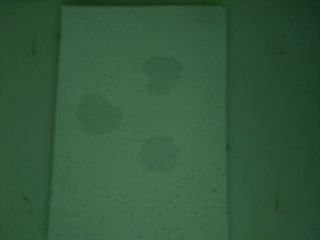Water_detected: (76, 98, 116, 138), (148, 139, 179, 170), (149, 58, 174, 86)
